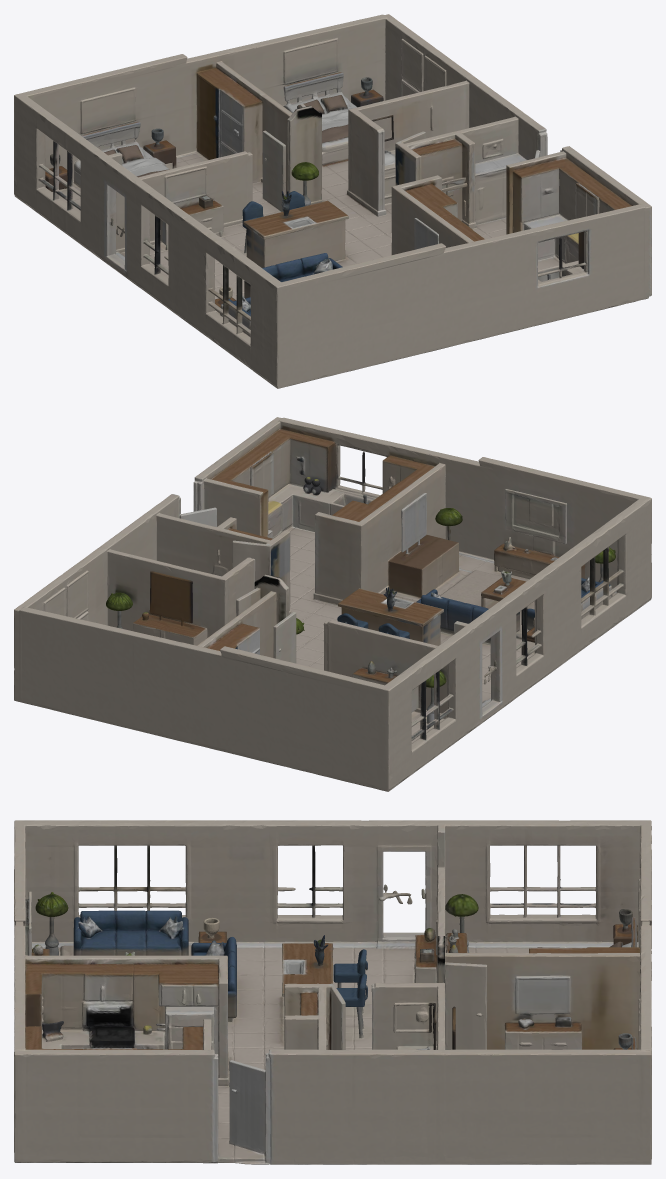
3 views of the same model, one above another, from view 1: azimuth 30°, elevation 25°; view 2: azimuth 150°, elevation 25°; view 3: azimuth 270°, elevation 25° (orthographic). The views are drawn at different scales.
Visible parts, largest first — view 1: tripo_node_bf733198-2221-44da-a0c0-702dd73e7033; view 2: tripo_node_bf733198-2221-44da-a0c0-702dd73e7033; view 3: tripo_node_bf733198-2221-44da-a0c0-702dd73e7033.
Boxes of the visible parts, x1=… form: tripo_node_bf733198-2221-44da-a0c0-702dd73e7033: x1=14, y1=14, x2=651, y2=388; tripo_node_bf733198-2221-44da-a0c0-702dd73e7033: x1=14, y1=417, x2=651, y2=791; tripo_node_bf733198-2221-44da-a0c0-702dd73e7033: x1=14, y1=820, x2=651, y2=1164.
Bounding box in the file's own units: 0.8244 × 0.2143 × 1.
1 material, 1 textured.
